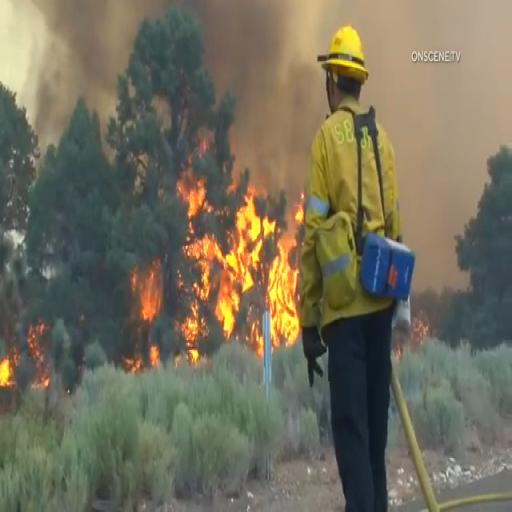fire: (183, 166, 294, 354), (0, 323, 41, 397), (134, 269, 169, 330)
smoke: (212, 9, 315, 111), (18, 1, 115, 97), (416, 91, 461, 186)
